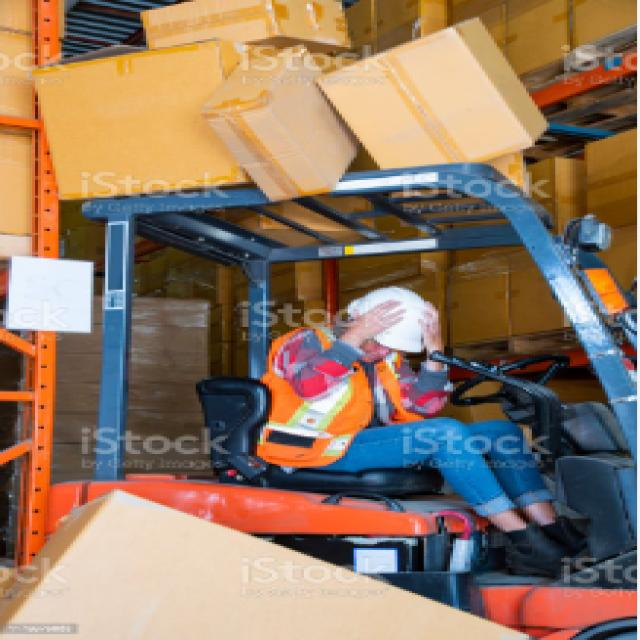hard_hat: (351, 283, 449, 365)
shoes: (486, 512, 622, 584)
vest: (250, 320, 438, 475)
